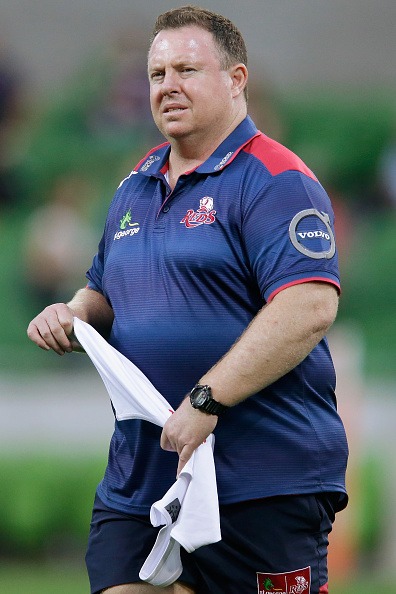em pe: (21, 0, 361, 594)
